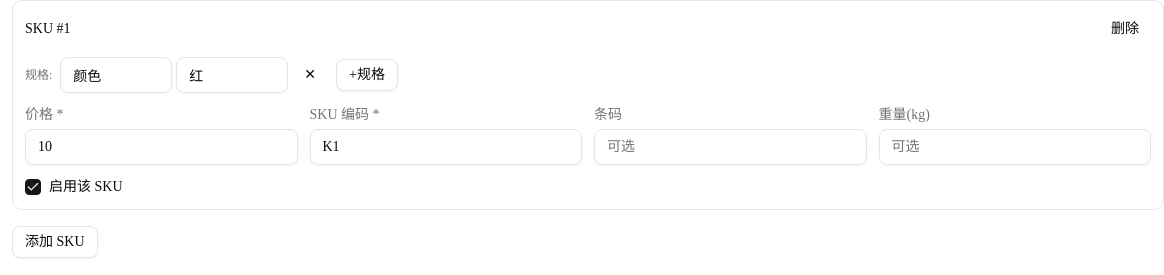
Test: SkuEditor › edits, adds and removes spec pairs
Replace the text in the 2nd field showing "红" with "蓝" at (232, 75), box x1=176 y1=57 x2=288 y2=93
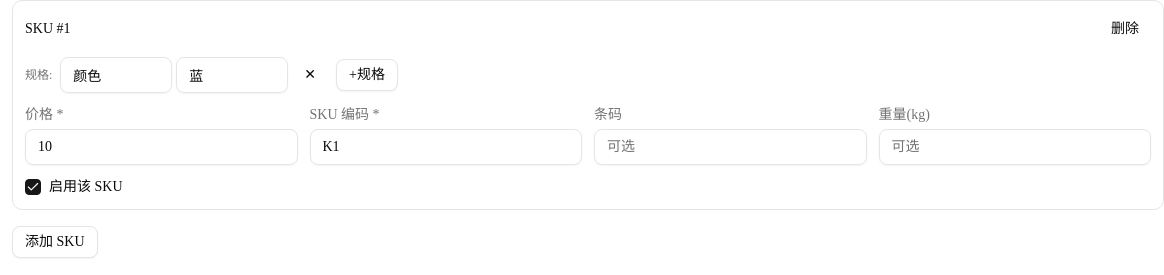
Click the button "+规格" at (367, 75), box x1=336 y1=59 x2=398 y2=91
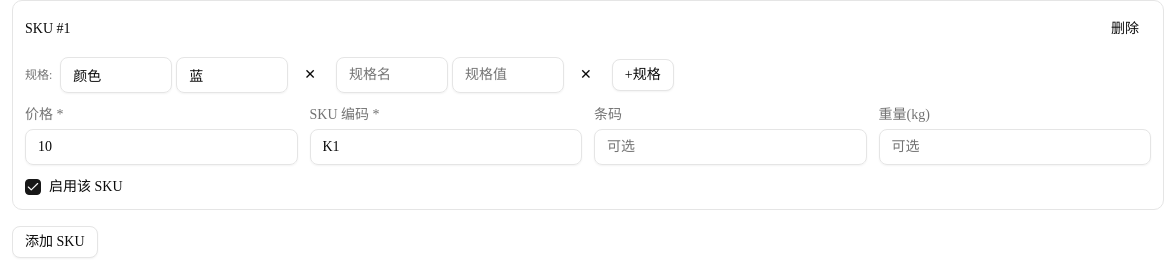
Expected: the number of fields with placeholder "规格值" is 2, x1=176 y1=57 x2=288 y2=93; x1=452 y1=57 x2=564 y2=93
Click the 1st button "✕" at (310, 75), box x1=292 y1=59 x2=328 y2=91
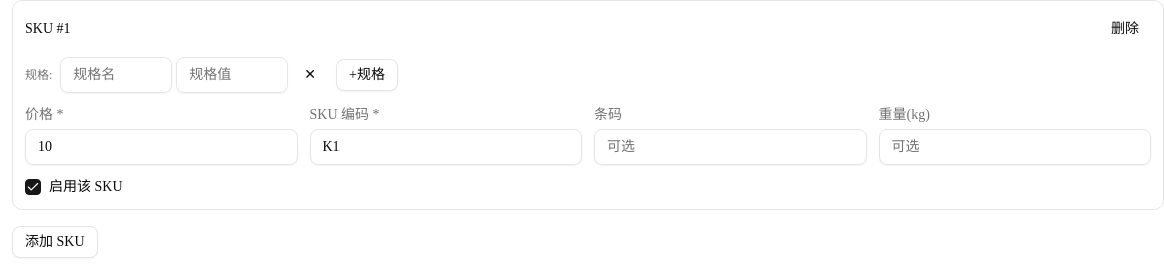
Expected: the number of fields with placeholder "规格值" is 1, x1=176 y1=57 x2=288 y2=93
